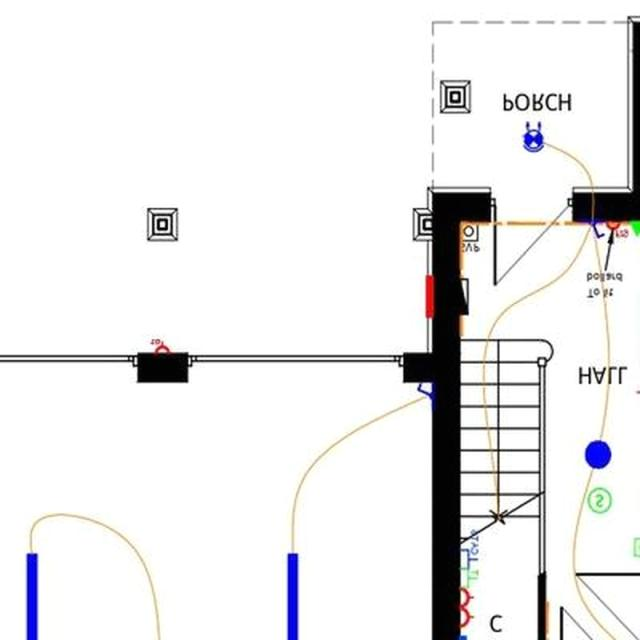BT Entry Point: (627, 223, 639, 240)
Cat 6 Data Socket: (459, 532, 478, 570)
Double Socket: (458, 587, 474, 630)
Electric Meter Box: (424, 275, 434, 320)
Fused spur: (606, 222, 627, 238)
Light Switch: (416, 384, 431, 401), (590, 222, 604, 240)
Low Energy Downlighter: (522, 121, 543, 153)
Low Energy Pendant Light: (584, 442, 611, 471)
Mains Wired Smoke Detector: (588, 489, 610, 514)
Outside Socket: (150, 338, 170, 355)
Programmable Room Thermostat: (633, 538, 639, 557)
Telephone Socket: (459, 565, 478, 589)
Twin LED Strip Light: (287, 554, 297, 640), (27, 554, 35, 640)
